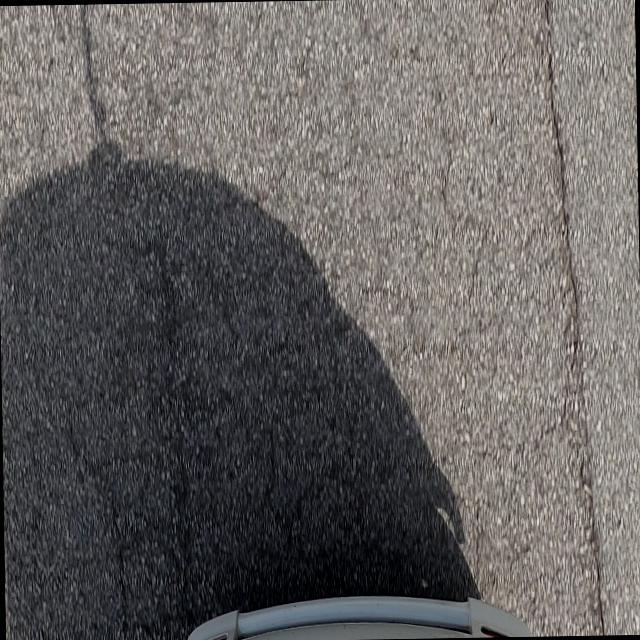Retak-Memanjang: (543, 0, 605, 634)
